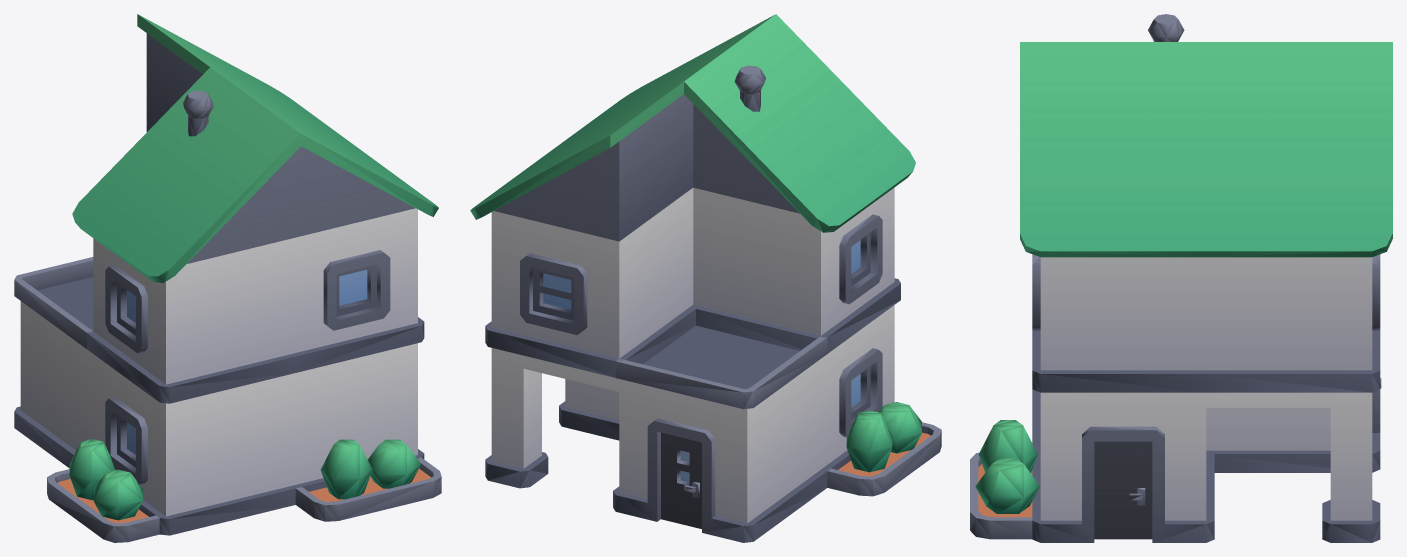
File: ks_house_r.fbx
3 renders of one model, left to right at view 1: azimuth 30°, elevation 25°; view 2: azimuth 150°, elevation 25°; view 3: azimuth 270°, elevation 25°, orthographic. The views are drawn at different scales.
Parts seen in each view (by area): view 1: ks_house_r_LOD0; view 2: ks_house_r_LOD0; view 3: ks_house_r_LOD0.
Boxes of the visible parts, bbox=[...] form: ks_house_r_LOD0: bbox=[14, 14, 441, 542]; ks_house_r_LOD0: bbox=[470, 14, 941, 542]; ks_house_r_LOD0: bbox=[970, 14, 1392, 542].
Size of what is drawn, in the model's own units: 8.74 by 9.7 by 8.67.
